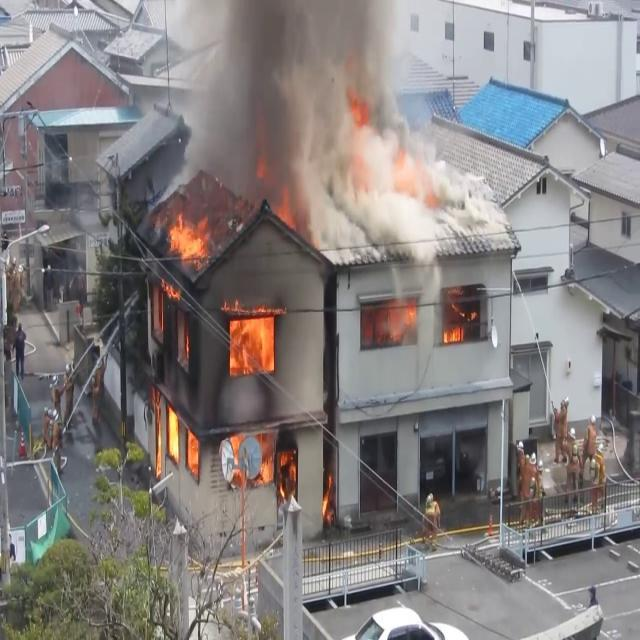Fire: (225, 302, 278, 377), (166, 206, 210, 268)
Smoke: (166, 0, 429, 229)
